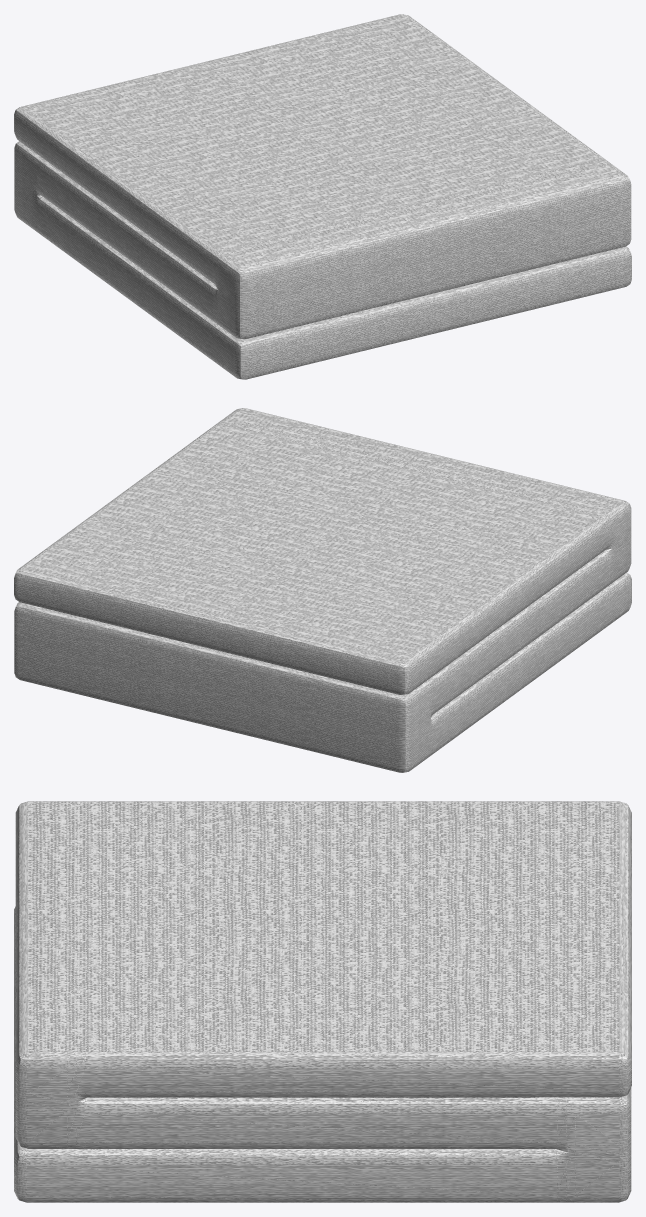
File: towel_2.fbx
3 renders of one model, top to bottom at view 1: azimuth 30°, elevation 25°; view 2: azimuth 150°, elevation 25°; view 3: azimuth 270°, elevation 25°, orthographic. The views are drawn at different scales.
Parts seen in each view (by area): view 1: pCube68; view 2: pCube68; view 3: pCube68.
Part boxes in pixels (box(x1,y1,x2,y2)): pCube68: box(14, 14, 631, 379); pCube68: box(14, 408, 631, 772); pCube68: box(14, 801, 631, 1202).
Size of the model in its own units: 0.01 by 0.00269 by 0.01.
Materials: 1 (1 with a texture image).
